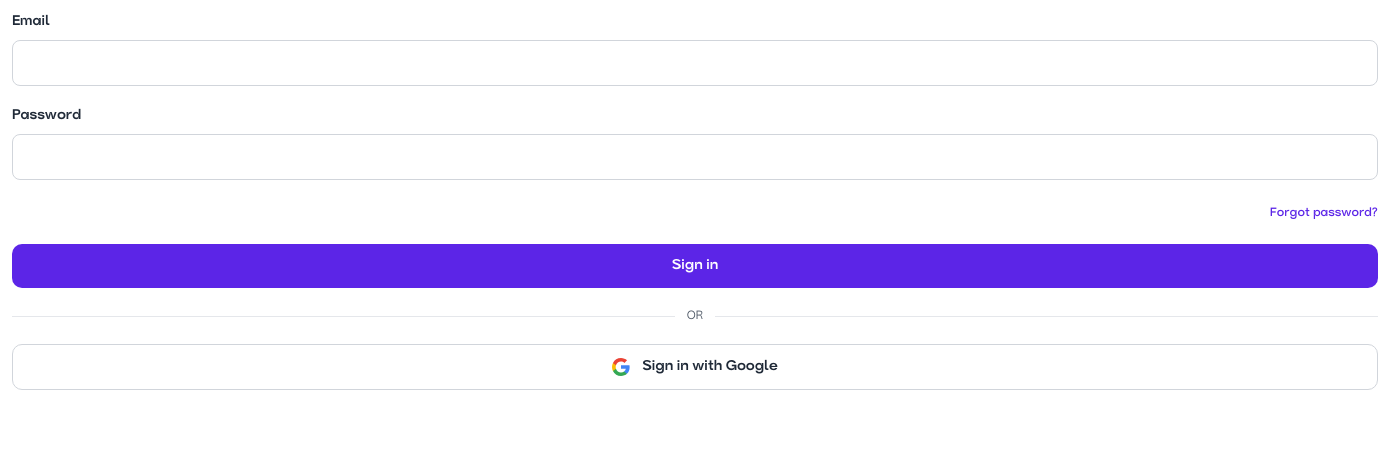
Test: SignInForm › shows an error alert when sign-in fails
Type "member@example.com" into the field labelled "Email" at (695, 63), box [12,40,1378,86]
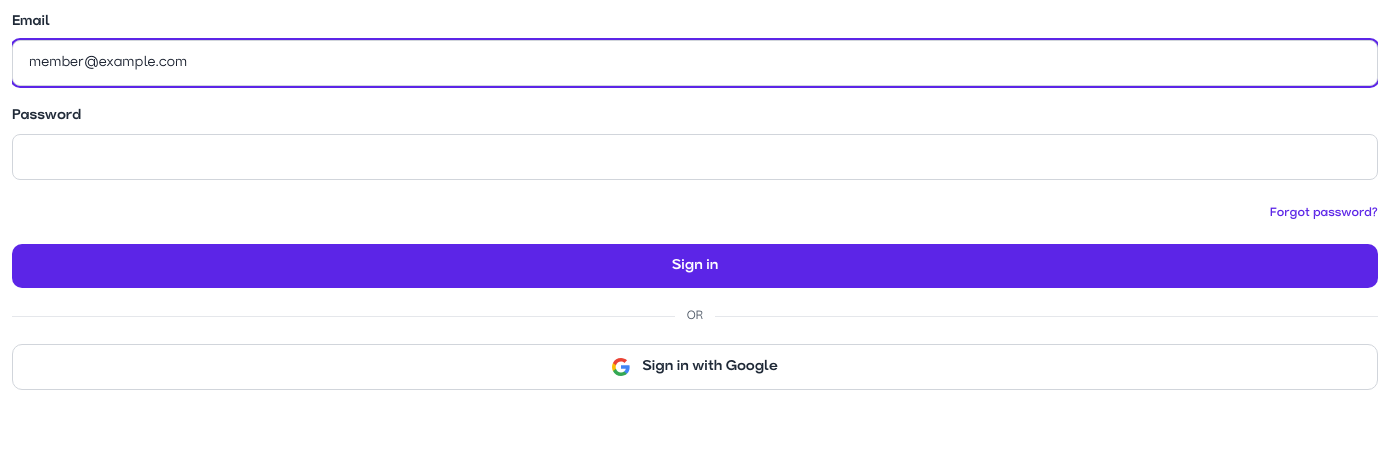
Type "wrongpassword" into the password field labelled "Password" at (695, 157), box [12,134,1378,180]
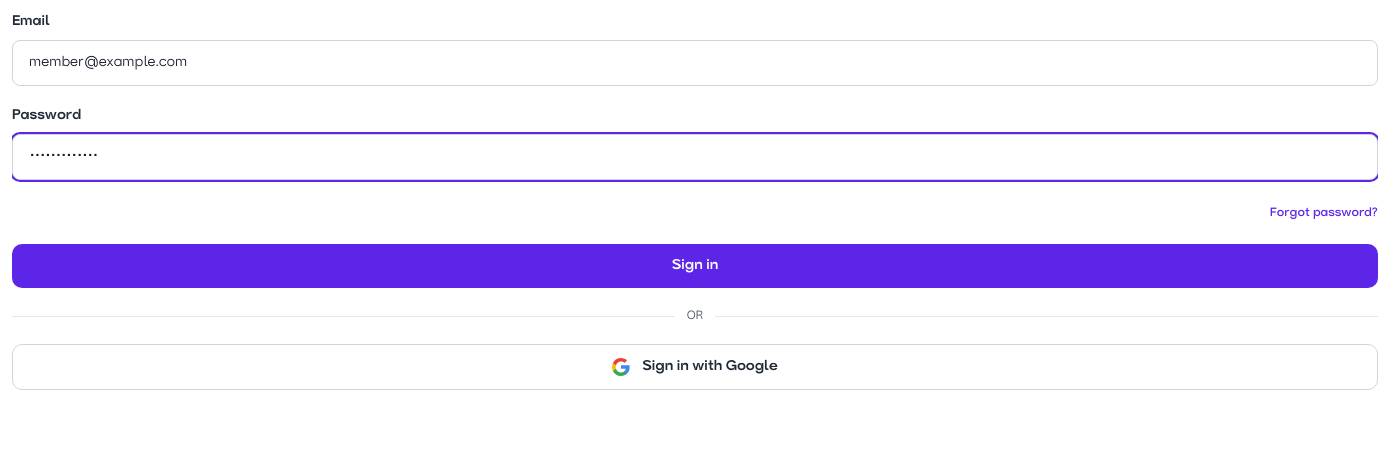
Click the button "Sign in" at (695, 266), box [12,244,1378,288]
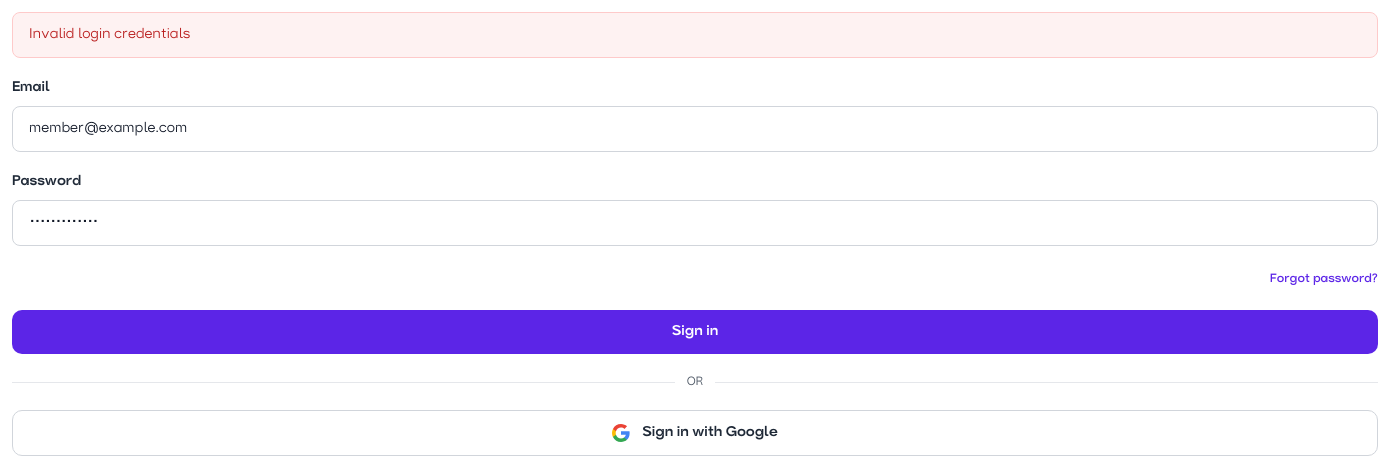
Check: the message reads "Invalid login credentials", box [29,27,190,42]
